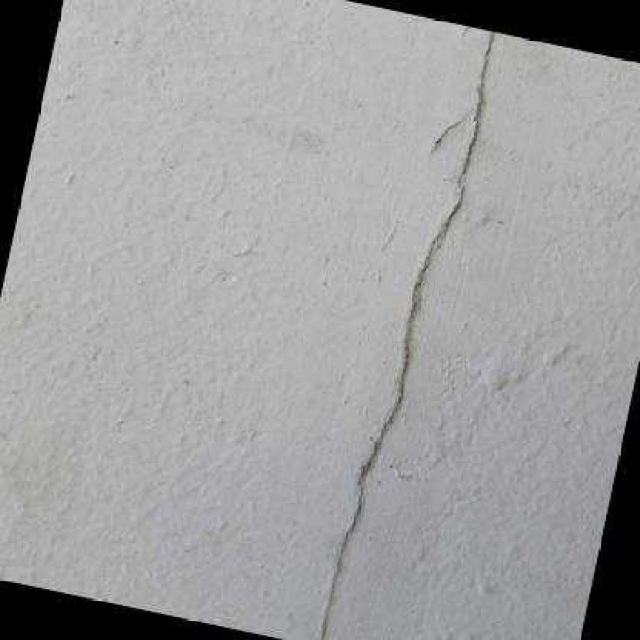D00: (316, 29, 493, 640)
